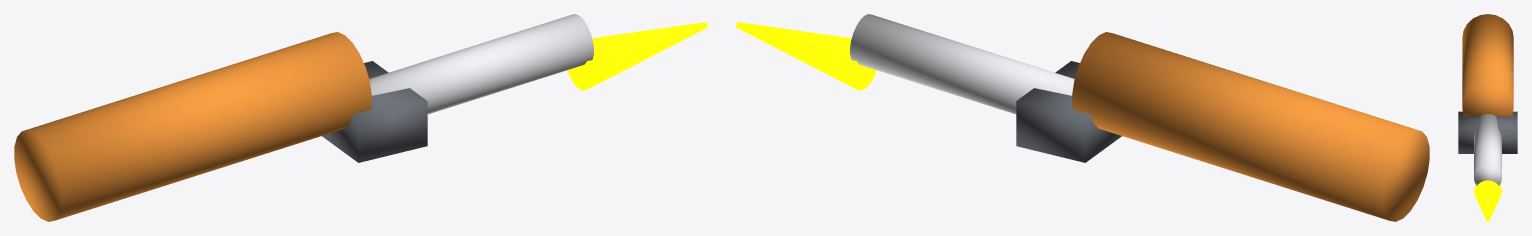
The model's file is Prop_Soldering_Iron.fbx.
The picture shows the model from 3 angles, left to right: view 1: azimuth 30°, elevation 25°; view 2: azimuth 150°, elevation 25°; view 3: azimuth 270°, elevation 25°; orthographic projection. The views are drawn at different scales.
Parts seen in each view (by area): view 1: Soldering_Handle, Soldering_Barrel, Soldering_Stand, Soldering_Glowing_Tip; view 2: Soldering_Handle, Soldering_Barrel, Soldering_Stand, Soldering_Glowing_Tip; view 3: Soldering_Handle, Soldering_Barrel, Soldering_Stand, Soldering_Glowing_Tip.
Part boxes in pixels (<box>): Soldering_Handle: <box>14,32,371,221</box>; Soldering_Barrel: <box>369,14,593,114</box>; Soldering_Stand: <box>322,61,427,162</box>; Soldering_Glowing_Tip: <box>567,22,707,90</box>; Soldering_Handle: <box>1072,32,1429,221</box>; Soldering_Barrel: <box>850,14,1074,114</box>; Soldering_Stand: <box>1016,61,1121,162</box>; Soldering_Glowing_Tip: <box>736,22,876,90</box>; Soldering_Handle: <box>1462,14,1513,116</box>; Soldering_Barrel: <box>1474,114,1501,185</box>; Soldering_Stand: <box>1458,111,1517,153</box>; Soldering_Glowing_Tip: <box>1474,180,1501,221</box>.
Bounding box in the file's own units: 7.78 × 1.1 × 1.23.
